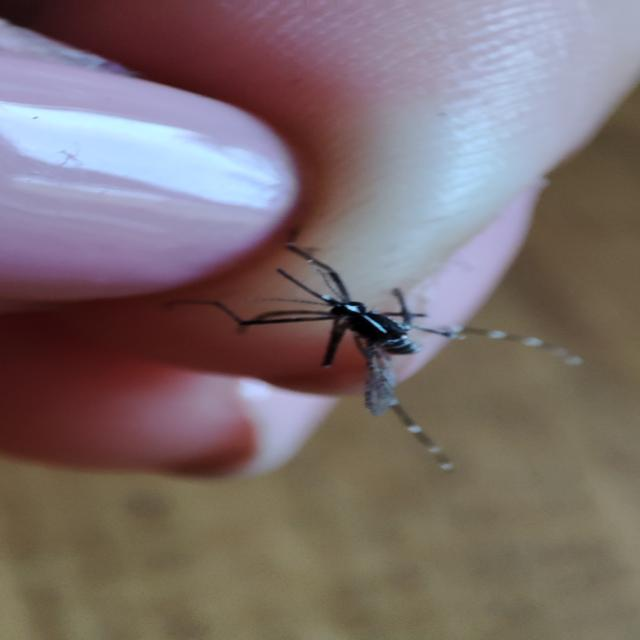albopictus: (166, 206, 507, 454)
